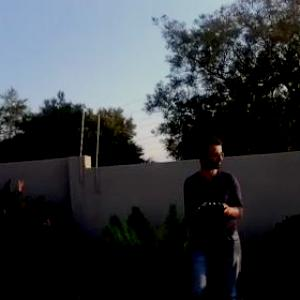follow: (174, 127, 246, 299)
